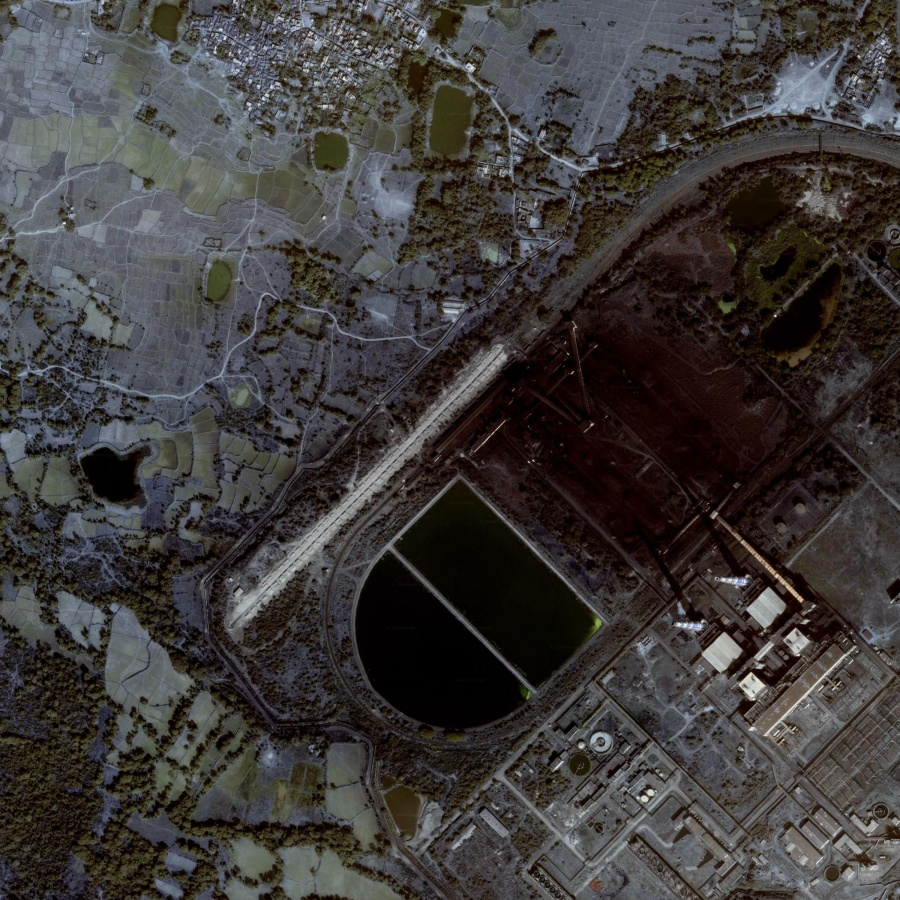PowerPlant: (338, 248, 849, 760)
